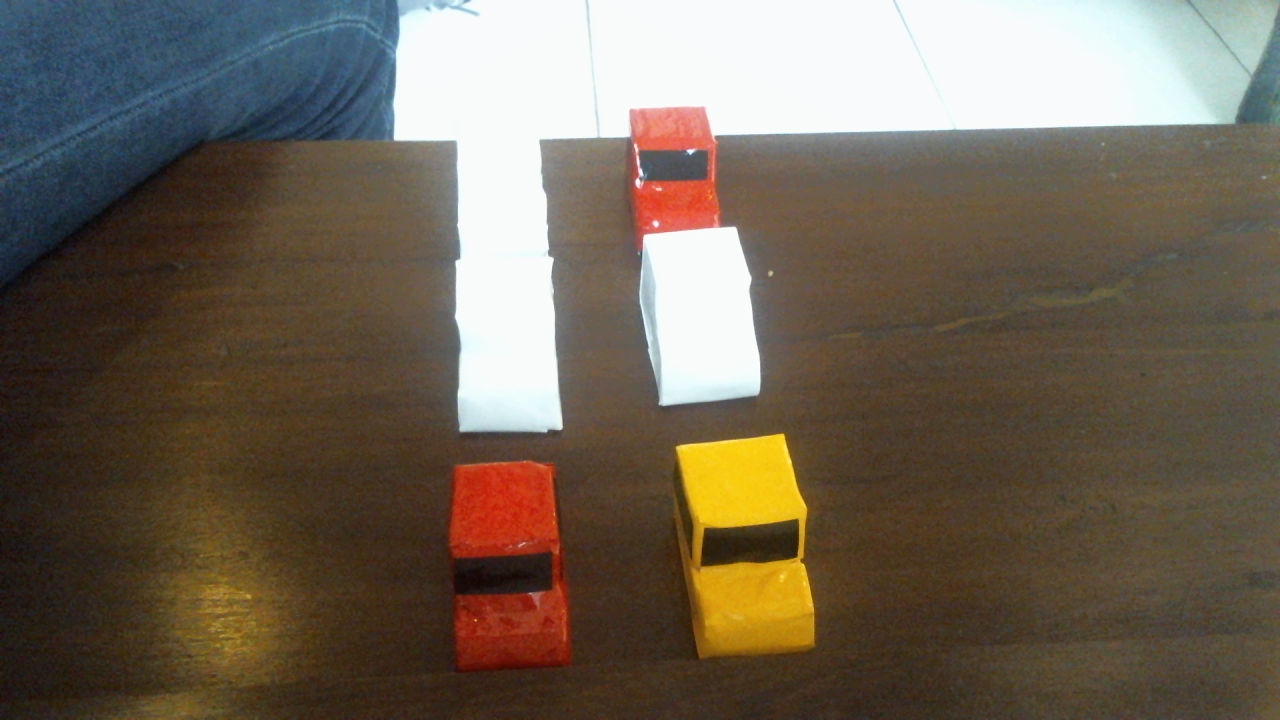Kijang Kapsul: (641, 419, 857, 674)
